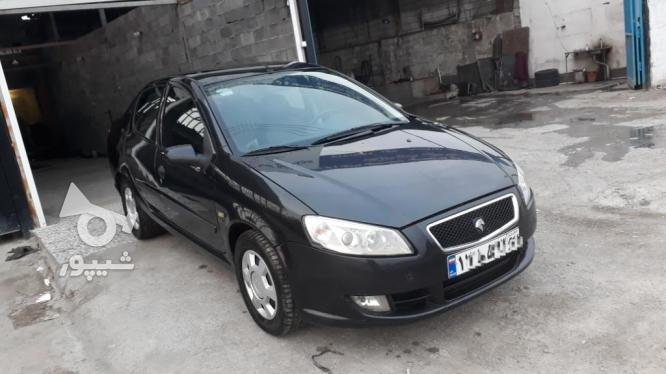car: (446, 225, 528, 277)
